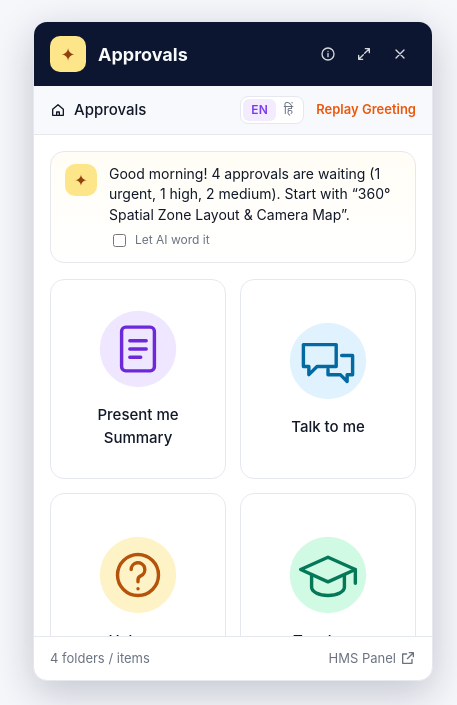
Test: AssistantPanel › opening Help me shows the question box
The width and height of the screenshot is (457, 705).
Step 1. Click the button "Help me" → (138, 593), box [50,493,226,693]
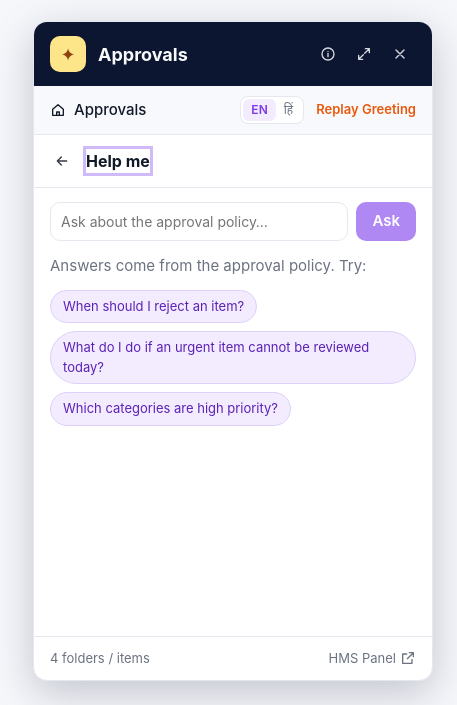
expect the field named "question" is shown: met, box [50,202,348,241]
